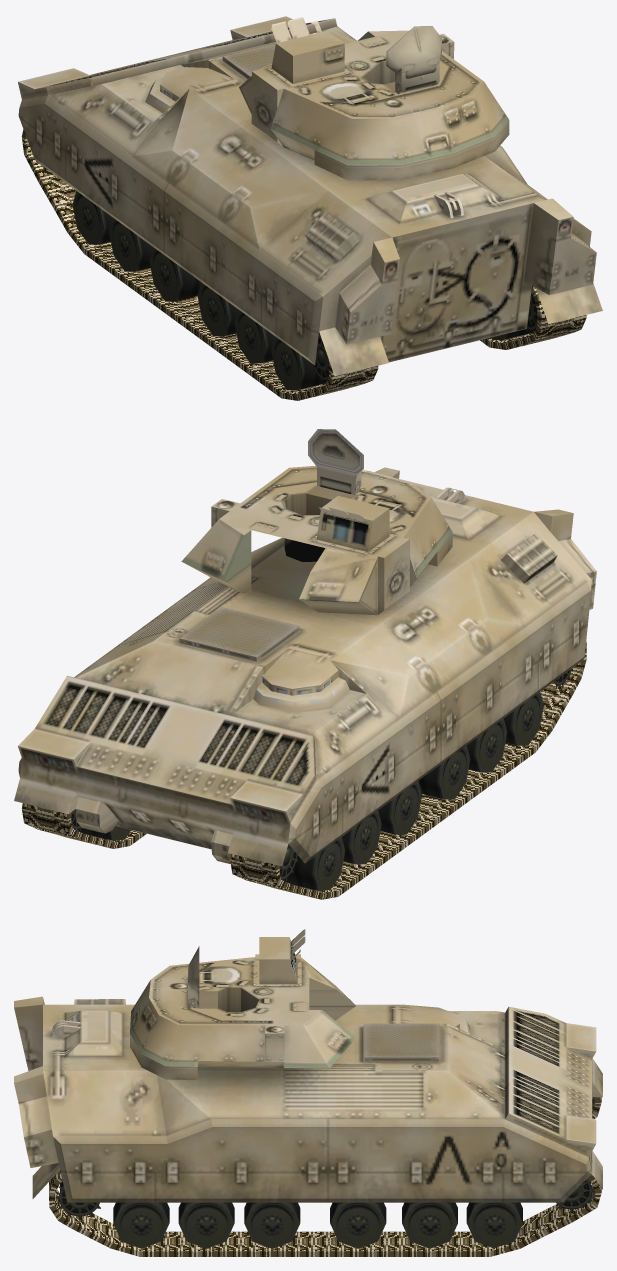
File: M2A1_BRADLEY.glb
3 renders of one model, top to bottom at view 1: azimuth 30°, elevation 25°; view 2: azimuth 150°, elevation 25°; view 3: azimuth 270°, elevation 25°, orthographic. The views are drawn at different scales.
Visible parts, largest first — view 1: BODY, TURRET, M2A1_BRADLEY_WHEEL2_RIGHT (×6), M2A1_BRADLEY_TRACK_LEFT, COMMAND_HATCH, M2A1_BRADLEY_TRACK_RIGHT; view 2: BODY, TURRET, M2A1_BRADLEY_WHEEL2_RIGHT (×6), M2A1_BRADLEY_TRACK_LEFT, COMMAND_HATCH, M2A1_BRADLEY_TRACK_RIGHT; view 3: BODY, TURRET, M2A1_BRADLEY_WHEEL2_LEFT (×6), M2A1_BRADLEY_TRACK_RIGHT, M2A1_BRADLEY_WHEEL1_LEFT (×2), COMMAND_HATCH.
Part boxes in pixels (x1,y1,x2,y2): BODY: (18, 16, 602, 375); TURRET: (239, 17, 509, 180); M2A1_BRADLEY_WHEEL2_RIGHT (×6): (72, 191, 326, 390); M2A1_BRADLEY_TRACK_LEFT: (21, 129, 378, 400); COMMAND_HATCH: (386, 26, 441, 94); M2A1_BRADLEY_TRACK_RIGHT: (480, 286, 586, 349); BODY: (14, 467, 596, 866); TURRET: (181, 465, 452, 615); M2A1_BRADLEY_WHEEL2_RIGHT (×6): (282, 692, 543, 890); M2A1_BRADLEY_TRACK_LEFT: (230, 642, 586, 899); COMMAND_HATCH: (308, 429, 363, 494); M2A1_BRADLEY_TRACK_RIGHT: (21, 803, 146, 848); BODY: (14, 996, 602, 1202); TURRET: (130, 929, 355, 1079); M2A1_BRADLEY_WHEEL2_LEFT (×6): (113, 1202, 522, 1248); M2A1_BRADLEY_TRACK_RIGHT: (49, 1170, 601, 1256); M2A1_BRADLEY_WHEEL1_LEFT (×2): (55, 1179, 594, 1219); COMMAND_HATCH: (188, 946, 199, 1008).
Size of the model in its own units: 3.09 by 3.28 by 6.41.
Materials: 6 (5 with a texture image).
